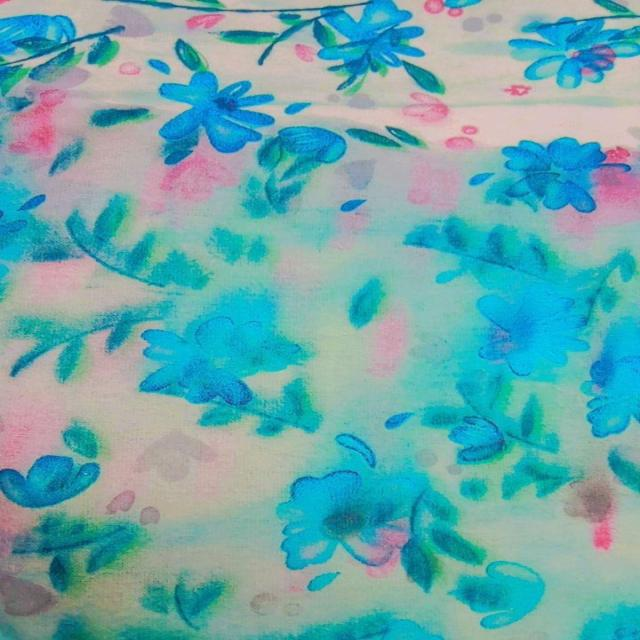baekra: (114, 156, 640, 492), (1, 492, 640, 640), (4, 0, 110, 484)
